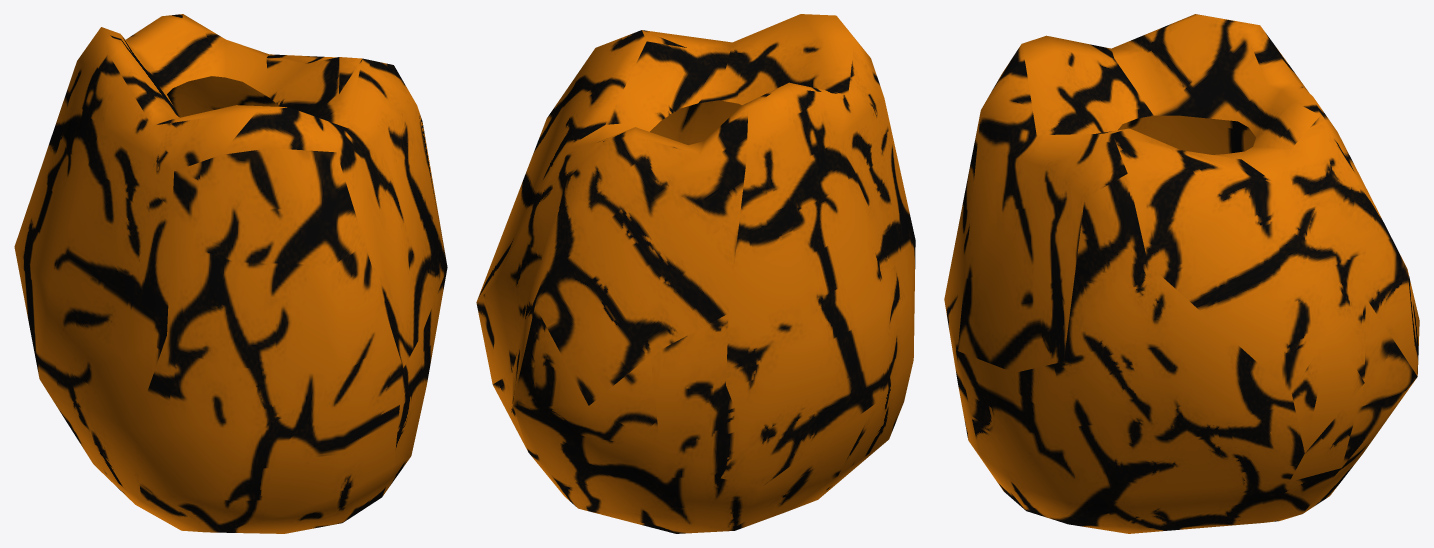
Rendered from pies1D.fbx.
The picture shows the model from 3 angles, left to right: view 1: azimuth 30°, elevation 25°; view 2: azimuth 150°, elevation 25°; view 3: azimuth 270°, elevation 25°; orthographic projection. The views are drawn at different scales.
Visible parts, largest first — view 1: Pies1D; view 2: Pies1D; view 3: Pies1D.
Boxes of the visible parts, x1,y1,x2,y2 form: Pies1D: (14, 14, 447, 533); Pies1D: (476, 14, 915, 533); Pies1D: (944, 14, 1419, 533).
Bounding box in the file's own units: 24.46 × 29.06 × 28.74.
